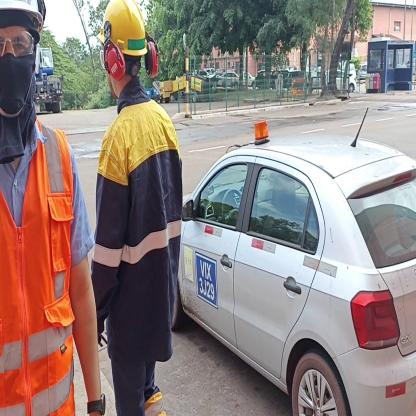Balaclava: (0, 15, 37, 139)
C_eletrica: (106, 116, 175, 352)
Capacete: (101, 0, 149, 52)
colete: (0, 138, 77, 416)
